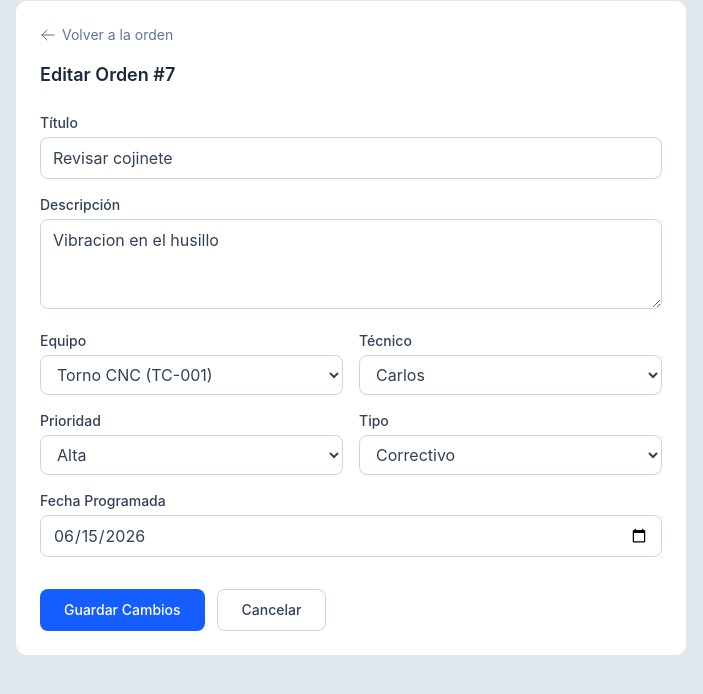
Test: WorkOrderEdit page › muestra el error si la base rechaza el cambio
Click the button "Guardar Cambios". click: click(122, 610)
box: [40,589,205,631]
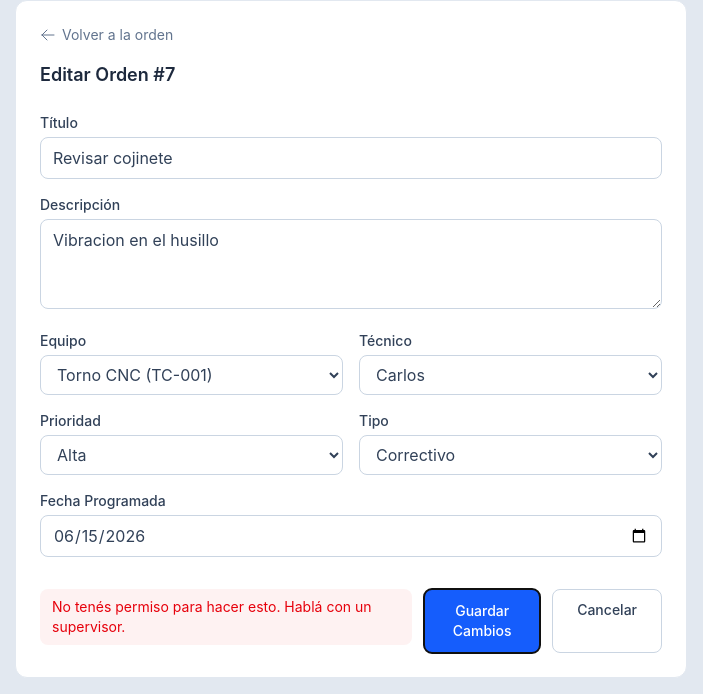
Expected: the text "No tenés permiso para hacer esto. Hablá con un supervisor." is shown, [40,589,412,645]
